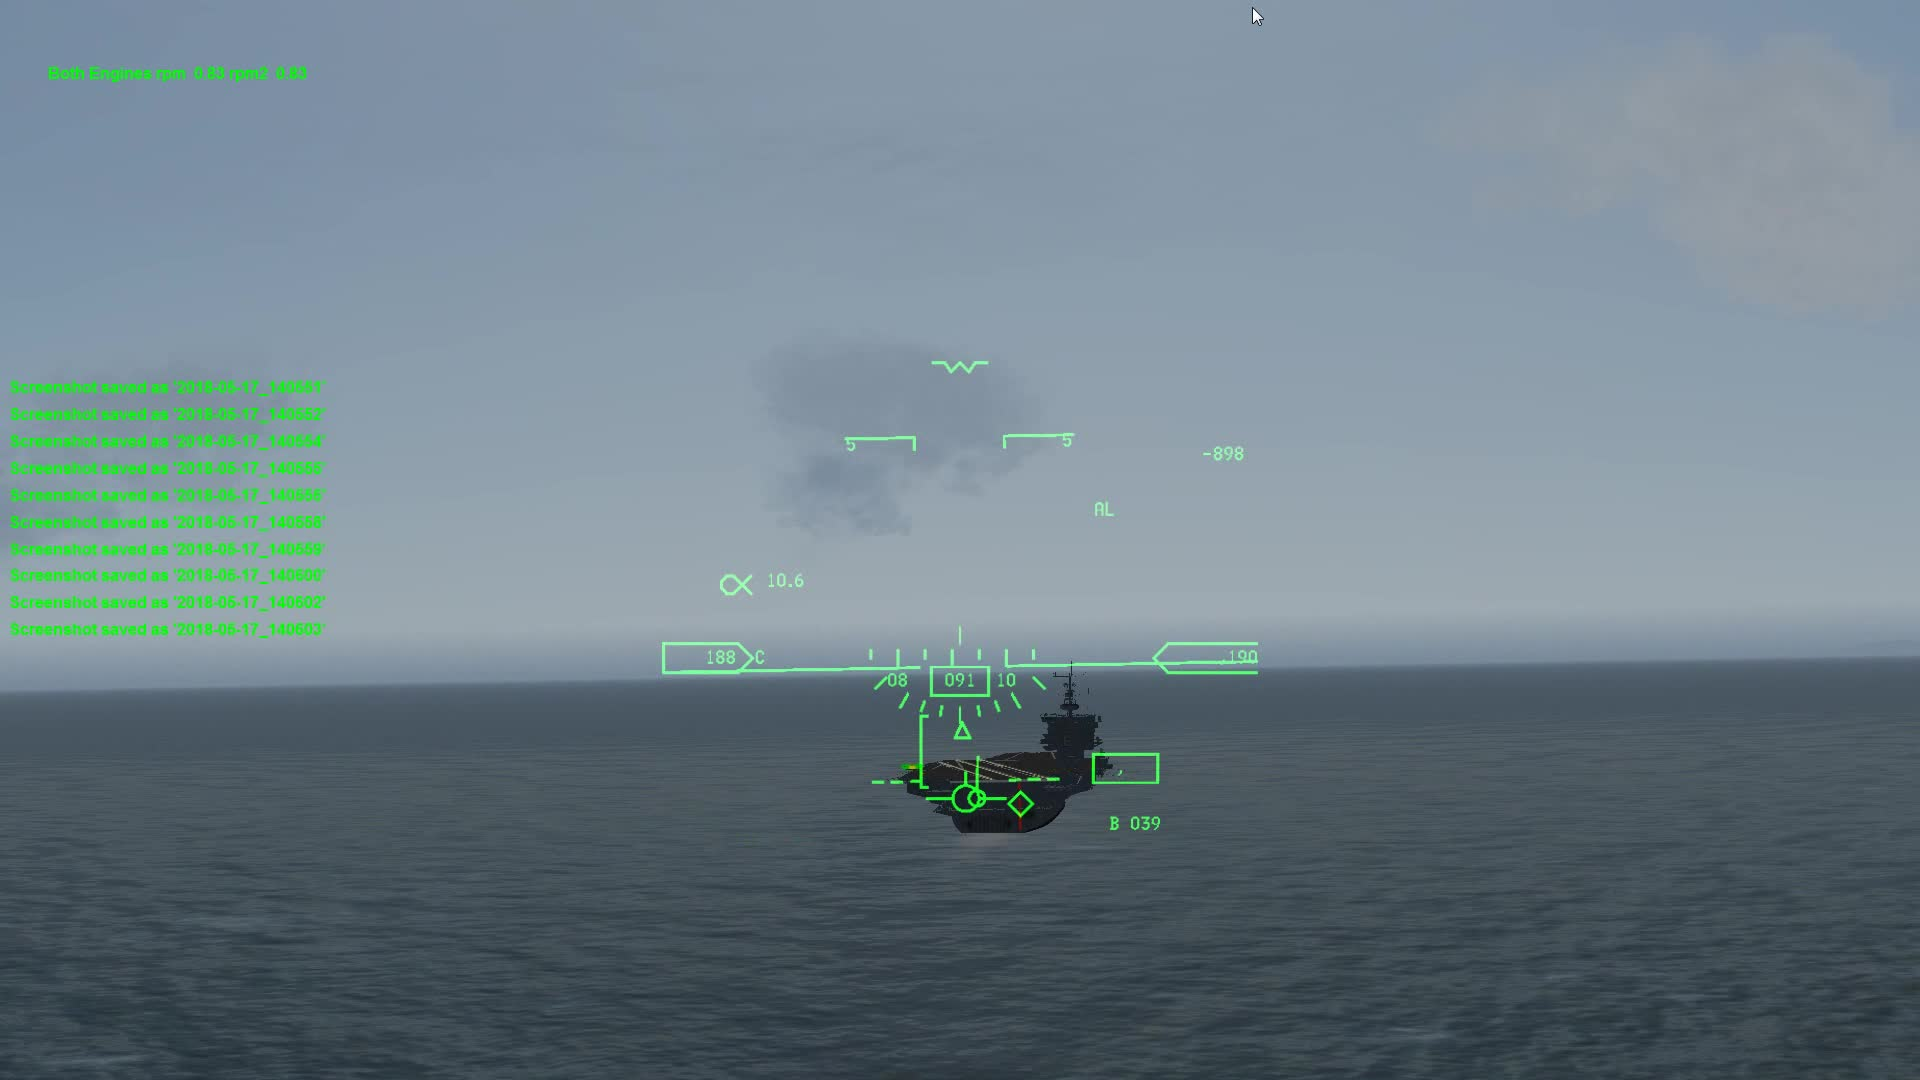speed vector: (924, 774, 1010, 822)
